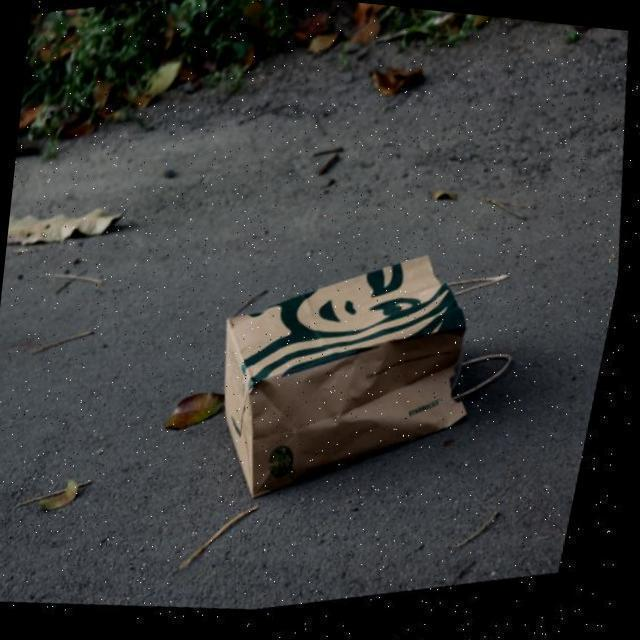Paper_Bag: (194, 220, 556, 541)
